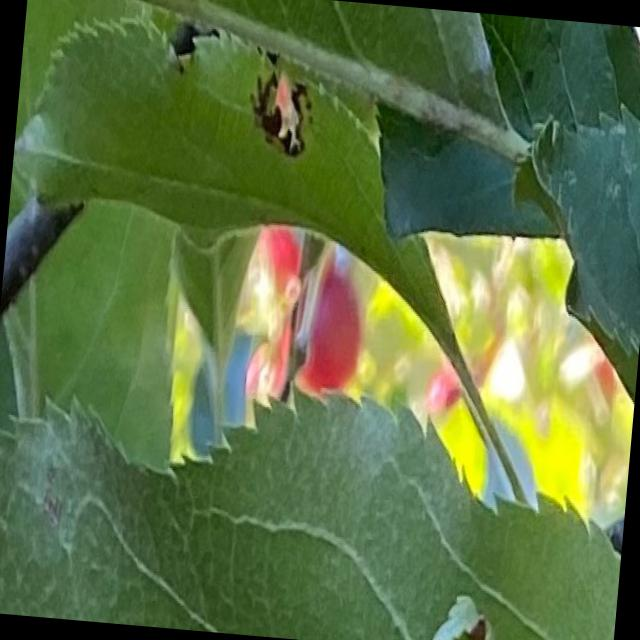Apples: (294, 266, 364, 392), (248, 221, 302, 312)
